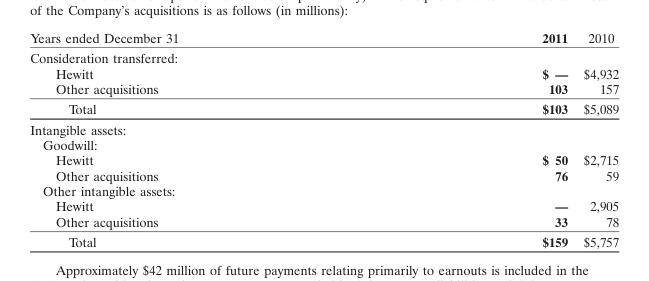table: (29, 29, 618, 249)
table column: (29, 29, 359, 249), (359, 29, 575, 249), (575, 29, 618, 249)
table column header: (29, 29, 618, 47)
table projected row header: (29, 47, 618, 65), (29, 119, 618, 136), (29, 136, 618, 152), (29, 182, 618, 198)
table row: (29, 98, 618, 119), (29, 29, 618, 47), (29, 47, 618, 65), (29, 80, 618, 98), (29, 213, 618, 231), (29, 231, 618, 249), (29, 119, 618, 136), (29, 136, 618, 152), (29, 182, 618, 198), (29, 65, 618, 80), (29, 152, 618, 167), (29, 167, 618, 182), (29, 198, 618, 213)
